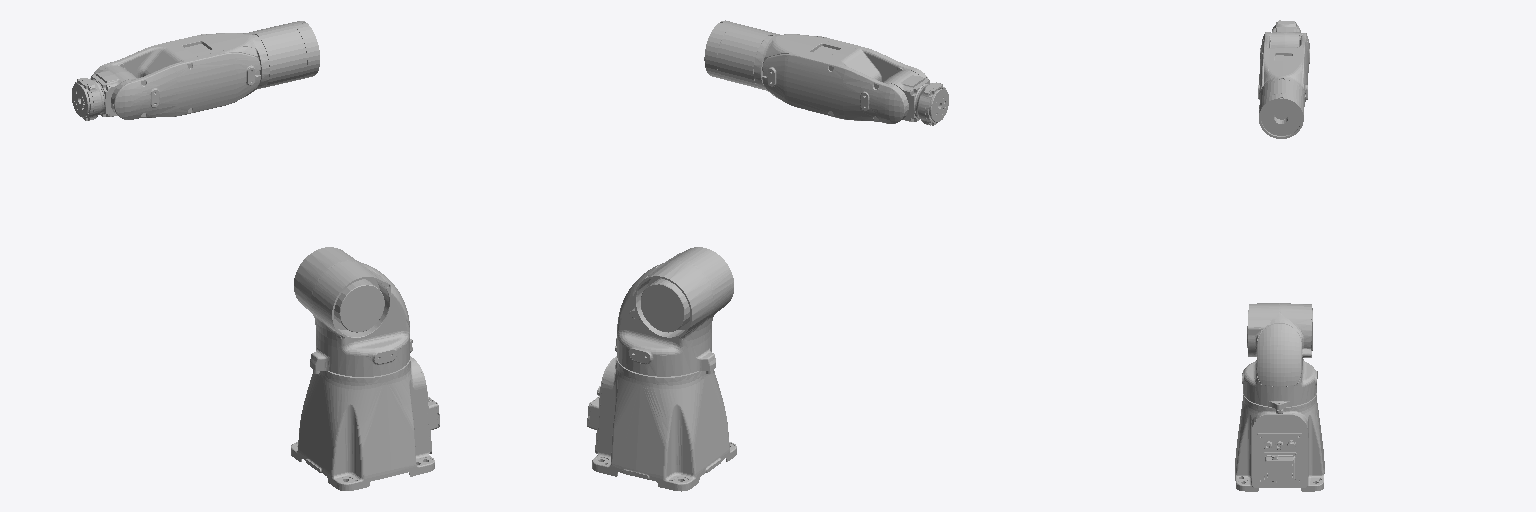
The robot description file, URDF, robot "gp7_robot":
<?xml version="1.0" encoding="utf-8"?>
<!-- This URDF was automatically created by SolidWorks to URDF Exporter! Originally created by [author] ([email redacted]) 
     Commit Version: 1.6.0-4-g7f85cfe  Build Version: 1.6.7995.38578
     For more information, please see http://wiki.ros.org/sw_urdf_exporter -->
<robot
  name="gp7_robot">
  <link
    name="base_link">
    <inertial>
      <origin
        xyz="0.00556899384123783 0.0947579571734833 6.09611647775227E-07"
        rpy="0 0 0" />
      <mass
        value="5.21544442918112" />
      <inertia
        ixx="0.0260256818370489"
        ixy="-0.000139844186899234"
        ixz="2.59241629433919E-05"
        iyy="0.0217205325248604"
        iyz="-4.76767375395997E-05"
        izz="0.0252950790006553" />
    </inertial>
    <visual>
      <origin
        xyz="0 0 0"
        rpy="0 0 0" />
      <geometry>
        <mesh
          filename="package://gp7_robot_description/meshes/base_link.STL" />
      </geometry>
      <material
        name="">
        <color
          rgba="0.752941176470588 0.752941176470588 0.752941176470588 1" />
      </material>
    </visual>
    <collision>
      <origin
        xyz="0 0 0"
        rpy="0 0 0" />
      <geometry>
        <mesh
          filename="package://gp7_robot_description/meshes/base_link.STL" />
      </geometry>
    </collision>
  </link>
  <link
    name="Link_1">
    <inertial>
      <origin
        xyz="0.000134503059806308 0.0998494433062664 -0.0156718313852401"
        rpy="0 0 0" />
      <mass
        value="2.94469826995042" />
      <inertia
        ixx="0.0119470132536149"
        ixy="-1.22546342961158E-06"
        ixz="1.70307901366958E-06"
        iyy="0.00886869039864905"
        iyz="0.00217925633010803"
        izz="0.011181352972868" />
    </inertial>
    <visual>
      <origin
        xyz="0 0 0"
        rpy="0 0 0" />
      <geometry>
        <mesh
          filename="package://gp7_robot_description/meshes/Link_1.STL" />
      </geometry>
      <material
        name="">
        <color
          rgba="0.752941176470588 0.752941176470588 0.752941176470588 1" />
      </material>
    </visual>
    <collision>
      <origin
        xyz="0 0 0"
        rpy="0 0 0" />
      <geometry>
        <mesh
          filename="package://gp7_robot_description/meshes/Link_1.STL" />
      </geometry>
    </collision>
  </link>
  <joint
    name="Joint_0"
    type="revolute">
    <origin
      xyz="0 0 0.1901"
      rpy="1.5708 0 1.5446" />
    <parent
      link="base_link" />
    <child
      link="Link_1" />
    <axis
      xyz="0 1 0" />
    <limit
      lower="-2.9671"
      upper="2.9671"
      effort="100"
      velocity="1.0" />
  </joint>
  <link
    name="Link_2">
    <inertial>
      <origin
        xyz="0.0276252074771908 0.000201917636819981 -0.194988821585821"
        rpy="0 0 0" />
      <mass
        value="6.24054918807357" />
      <inertia
        ixx="0.126298756807147"
        ixy="4.29059114902895E-05"
        ixz="-0.000192552588249394"
        iyy="0.110519522576684"
        iyz="0.000482840080846314"
        izz="0.0277565663536992" />
    </inertial>
    <visual>
      <origin
        xyz="0 0 0"
        rpy="0 0 0" />
      <geometry>
        <mesh
          filename="package://gp7_robot_description/meshes/Link_2.STL" />
      </geometry>
      <material
        name="">
        <color
          rgba="0.752941176470588 0.752941176470588 0.752941176470588 1" />
      </material>
    </visual>
    <collision>
      <origin
        xyz="0 0 0"
        rpy="0 0 0" />
      <geometry>
        <mesh
          filename="package://gp7_robot_description/meshes/Link_2.STL" />
      </geometry>
    </collision>
  </link>
  <joint
    name="Joint_1"
    type="revolute">
    <origin
      xyz="0 0.1399 -0.04"
      rpy="1.5708 -1.5708 0" />
    <parent
      link="Link_1" />
    <child
      link="Link_2" />
    <axis
      xyz="0 1 0" />
    <limit
      lower="-1.1345"
      upper="2.0944"
      effort="100"
      velocity="1.0" />
  </joint>
  <link
    name="Link_3">
    <inertial>
      <origin
        xyz="-0.0159086607027991 -0.000853911402927798 0.020054990140129"
        rpy="0 0 0" />
      <mass
        value="2.84915105674415" />
      <inertia
        ixx="0.00823186088760799"
        ixy="2.89656323772818E-05"
        ixz="-0.000903674014765267"
        iyy="0.00779150669560934"
        iyz="-3.86443268039045E-05"
        izz="0.00693418516528985" />
    </inertial>
    <visual>
      <origin
        xyz="0 0 0"
        rpy="0 0 0" />
      <geometry>
        <mesh
          filename="package://gp7_robot_description/meshes/Link_3.STL" />
      </geometry>
      <material
        name="">
        <color
          rgba="0.752941176470588 0.752941176470588 0.752941176470588 1" />
      </material>
    </visual>
    <collision>
      <origin
        xyz="0 0 0"
        rpy="0 0 0" />
      <geometry>
        <mesh
          filename="package://gp7_robot_description/meshes/Link_3.STL" />
      </geometry>
    </collision>
  </link>
  <joint
    name="Joint_2"
    type="revolute">
    <origin
      xyz="0 0 -0.445"
      rpy="3.1416 0 3.1416" />
    <parent
      link="Link_2" />
    <child
      link="Link_3" />
    <axis
      xyz="0 1 0" />
    <limit
      lower="-1.2217"
      upper="3.3161"
      effort="100"
      velocity="1.0" />
  </joint>
  <link
    name="Link_4">
    <inertial>
      <origin
        xyz="0.177174802383241 -0.00015216015435715 -0.000157756334050222"
        rpy="0 0 0" />
      <mass
        value="2.75543486027643" />
      <inertia
        ixx="0.00308572082590302"
        ixy="3.99895075414287E-06"
        ixz="-0.000318616375094939"
        iyy="0.0100848197701691"
        iyz="-2.48795451805911E-06"
        izz="0.0107851177216757" />
    </inertial>
    <visual>
      <origin
        xyz="0 0 0"
        rpy="0 0 0" />
      <geometry>
        <mesh
          filename="package://gp7_robot_description/meshes/Link_4.STL" />
      </geometry>
      <material
        name="">
        <color
          rgba="0.752941176470588 0.752941176470588 0.752941176470588 1" />
      </material>
    </visual>
    <collision>
      <origin
        xyz="0 0 0"
        rpy="0 0 0" />
      <geometry>
        <mesh
          filename="package://gp7_robot_description/meshes/Link_4.STL" />
      </geometry>
    </collision>
  </link>
  <joint
    name="Joint_3"
    type="revolute">
    <origin
      xyz="0.068592 0 0.04"
      rpy="1.5708 0 0" />
    <parent
      link="Link_3" />
    <child
      link="Link_4" />
    <axis
      xyz="1 0 0" />
    <limit
      lower="-3.3161"
      upper="3.3161"
      effort="100"
      velocity="1.0" />
  </joint>
  <link
    name="Link_5">
    <inertial>
      <origin
        xyz="0.000253905873221272 0.0132104932030859 -0.00174847528345036"
        rpy="0 0 0" />
      <mass
        value="0.24588630034741" />
      <inertia
        ixx="0.000139534602258257"
        ixy="-2.11771789628785E-06"
        ixz="1.96184580581413E-07"
        iyy="0.000156835351922146"
        iyz="-1.29214917414175E-06"
        izz="0.0001856168810843" />
    </inertial>
    <visual>
      <origin
        xyz="0 0 0"
        rpy="0 0 0" />
      <geometry>
        <mesh
          filename="package://gp7_robot_description/meshes/Link_5.STL" />
      </geometry>
      <material
        name="">
        <color
          rgba="0.752941176470588 0.752941176470588 0.752941176470588 1" />
      </material>
    </visual>
    <collision>
      <origin
        xyz="0 0 0"
        rpy="0 0 0" />
      <geometry>
        <mesh
          filename="package://gp7_robot_description/meshes/Link_5.STL" />
      </geometry>
    </collision>
  </link>
  <joint
    name="Joint_4"
    type="revolute">
    <origin
      xyz="0.37141 0 0"
      rpy="3.1416 0 1.5708" />
    <parent
      link="Link_4" />
    <child
      link="Link_5" />
    <axis
      xyz="0 0 1" />
    <limit
      lower="-2.3562"
      upper="2.3562"
      effort="100"
      velocity="1.0" />
  </joint>
  <link
    name="Link_6">
    <inertial>
      <origin
        xyz="0.00818428855341535 -8.73745520379998E-14 -6.68341476350361E-05"
        rpy="0 0 0" />
      <mass
        value="0.0241915724295803" />
      <inertia
        ixx="8.98081073180324E-06"
        ixy="-4.45920629459563E-17"
        ixz="2.0766263239999E-09"
        iyy="4.81100868909689E-06"
        iyz="-1.17305717161914E-19"
        izz="4.83536850887334E-06" />
    </inertial>
    <visual>
      <origin
        xyz="0 0 0"
        rpy="0 0 0" />
      <geometry>
        <mesh
          filename="package://gp7_robot_description/meshes/Link_6.STL" />
      </geometry>
      <material
        name="">
        <color
          rgba="0.752941176470588 0.752941176470588 0.752941176470588 1" />
      </material>
    </visual>
    <collision>
      <origin
        xyz="0 0 0"
        rpy="0 0 0" />
      <geometry>
        <mesh
          filename="package://gp7_robot_description/meshes/Link_6.STL" />
      </geometry>
    </collision>
  </link>
  <joint
    name="Joint_5"
    type="revolute">
    <origin
      xyz="0 0.06593 0"
      rpy="0 0 1.5708" />
    <parent
      link="Link_5" />
    <child
      link="Link_6" />
    <axis
      xyz="1 0 0" />
    <limit
      lower="-6.2814"
      upper="6.2814"
      effort="100"
      velocity="1.0" />
  </joint>
</robot>

--- What the picture shows (computed from the rendered views, not written in the file) ---
The picture shows the robot from 3 angles, left to right: view 1: azimuth 30°, elevation 25°; view 2: azimuth 150°, elevation 25°; view 3: azimuth 270°, elevation 25°; orthographic projection.
Model gp7_robot with 7 links and 6 joints (6 revolute), rooted at base_link, posed every joint at zero.
Visible links, largest first — view 1: base_link, Link_4, Link_1, Link_5; view 2: base_link, Link_4, Link_1, Link_5; view 3: base_link, Link_1, Link_4, Link_5.
Boxes of the visible links, x1,y1,x2,y2 form: base_link: (291,347,439,490); Link_4: (94,21,319,119); Link_1: (294,247,412,376); Link_5: (74,66,137,120); base_link: (587,346,736,491); Link_4: (704,20,927,123); Link_1: (616,247,733,376); Link_5: (883,70,945,125); base_link: (1235,393,1324,491); Link_1: (1242,303,1317,409); Link_4: (1258,32,1309,138); Link_5: (1271,20,1300,47).
Size in the robot's own frame: 0.6979 by 0.1995 by 0.8656 metres.
Meshes: 7 distinct files referenced, 5 mesh visuals loaded (5 binary STL); not drawn: 2 (file found but could not be loaded).